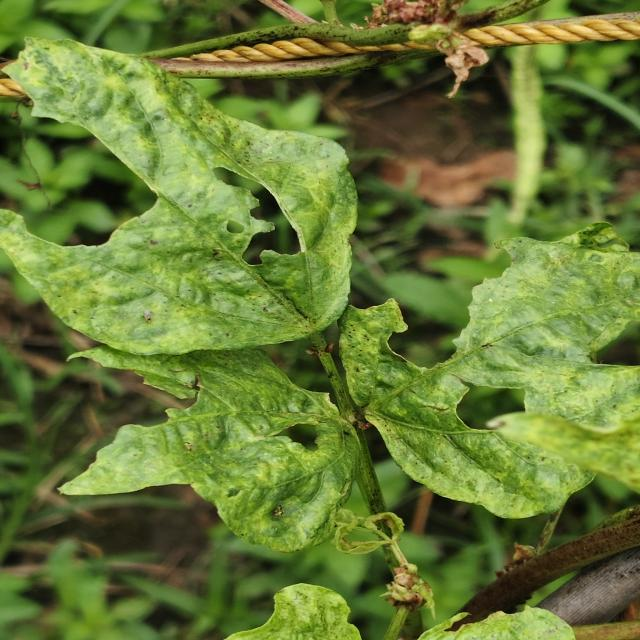leaf-moderate: (2, 39, 357, 355), (339, 222, 640, 518), (60, 346, 361, 552), (572, 408, 638, 496)
sitaw-aphid-high: (226, 583, 361, 640)
sitaw-aphid-low: (418, 605, 575, 640)
